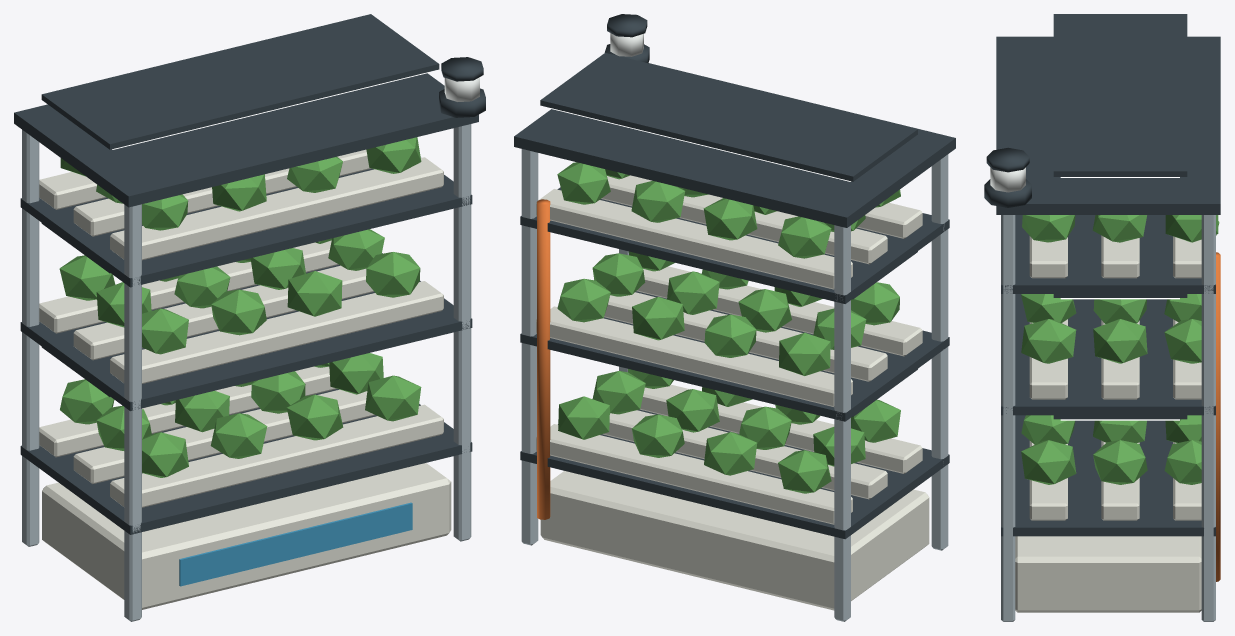
The model's file is hydrorack.glb.
The picture shows the model from 3 angles, left to right: view 1: azimuth 30°, elevation 25°; view 2: azimuth 150°, elevation 25°; view 3: azimuth 270°, elevation 25°; orthographic projection. The views are drawn at different scales.
Parts seen in each view (by area): view 1: Rack, Plants, Lamp; view 2: Rack, Plants, Lamp; view 3: Rack, Plants, Lamp.
Boxes of the visible parts, x1,y1,x2,y2 form: Rack: [14, 14, 478, 621]; Plants: [59, 137, 421, 477]; Lamp: [439, 57, 485, 117]; Rack: [514, 53, 955, 621]; Plants: [557, 162, 900, 493]; Lamp: [604, 14, 649, 63]; Rack: [996, 14, 1220, 621]; Plants: [1021, 215, 1219, 484]; Lamp: [984, 147, 1031, 207].
Size of the model in its own units: 1.71 by 2.14 by 0.99.
